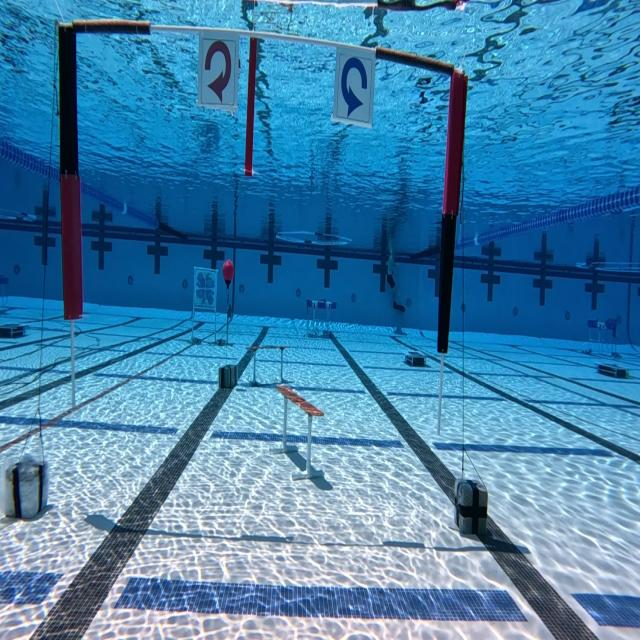blue_side: (332, 45, 377, 129)
red_side: (198, 31, 241, 111)
